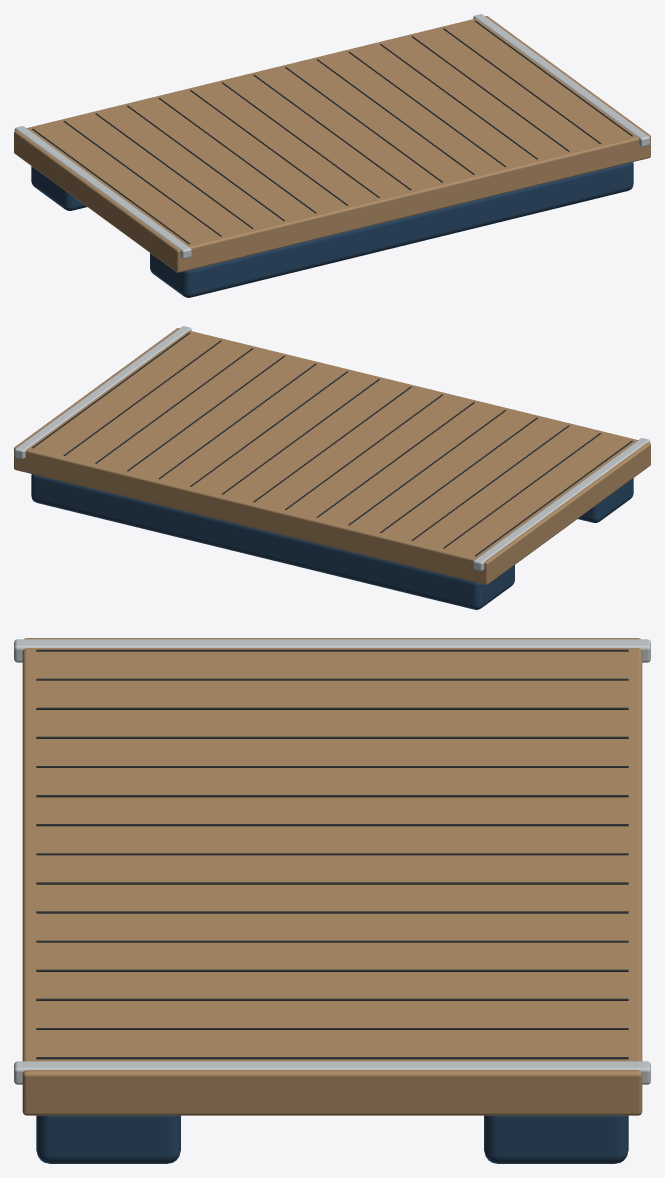
The model's file is rowing-boathouse-and-regatta-course-launch-pontoon-str-f3f0e942__32167.glb.
3 views of the same model, one above another, from view 1: azimuth 30°, elevation 25°; view 2: azimuth 150°, elevation 25°; view 3: azimuth 270°, elevation 25° (orthographic). The views are drawn at different scales.
Visible parts, largest first — view 1: launch-pontoon-straight; view 2: launch-pontoon-straight; view 3: launch-pontoon-straight.
Part boxes in pixels (bbox=[...]): launch-pontoon-straight: bbox=[14, 14, 650, 297]; launch-pontoon-straight: bbox=[14, 326, 650, 609]; launch-pontoon-straight: bbox=[14, 638, 650, 1163].
Bounding box in the file's own units: 3 × 0.345 × 1.85.
